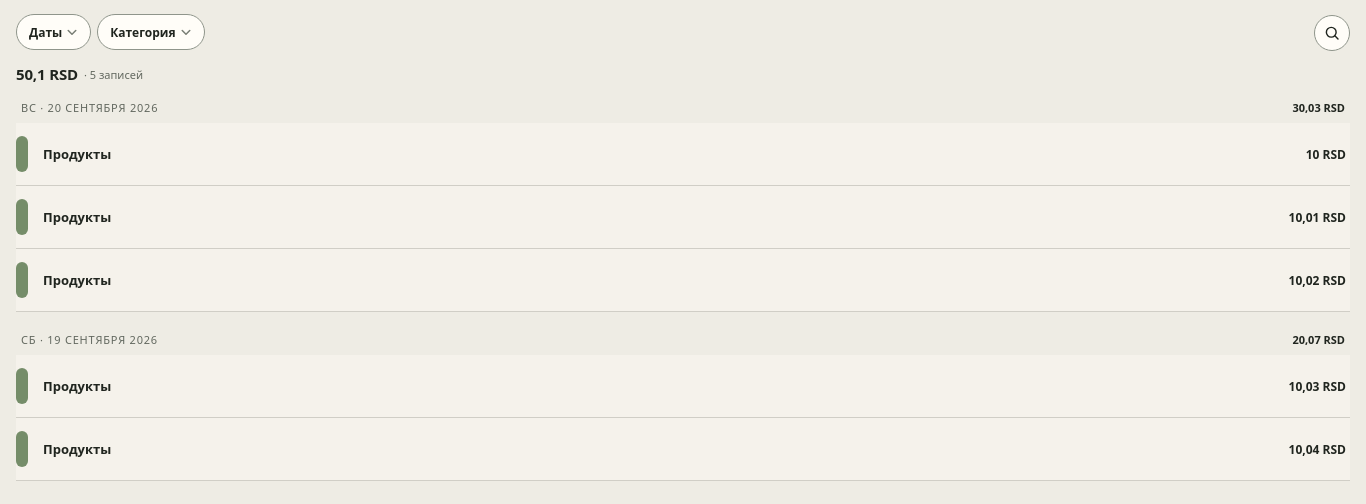
Test: history toolbar entering and leaving selection › still enters the selection by a long press, cancels it and deletes the selected records
Press the mouse on the element with class "history-expense" showing "Продукты 10 RSD" at (683, 154), box [16, 123, 1350, 186]
Wait 450 ms
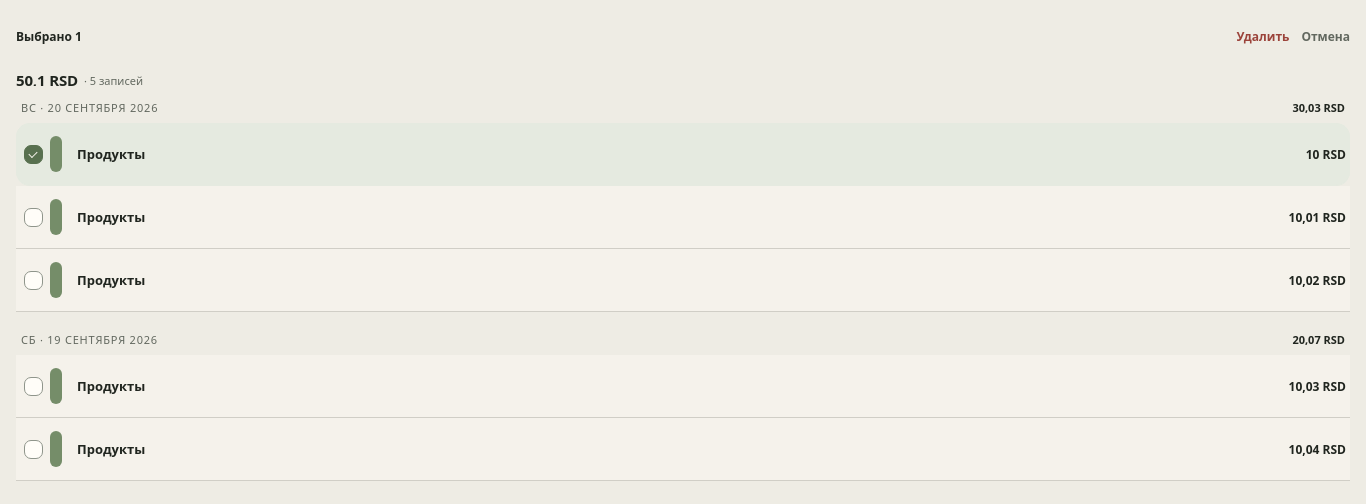
expect the element named "Выбранные расходы" shows "Выбрано 1": met, box [16, 14, 1350, 58]
Click the button "Отмена" at (1326, 36), box [1301, 20, 1350, 52]
Wait 250 ms
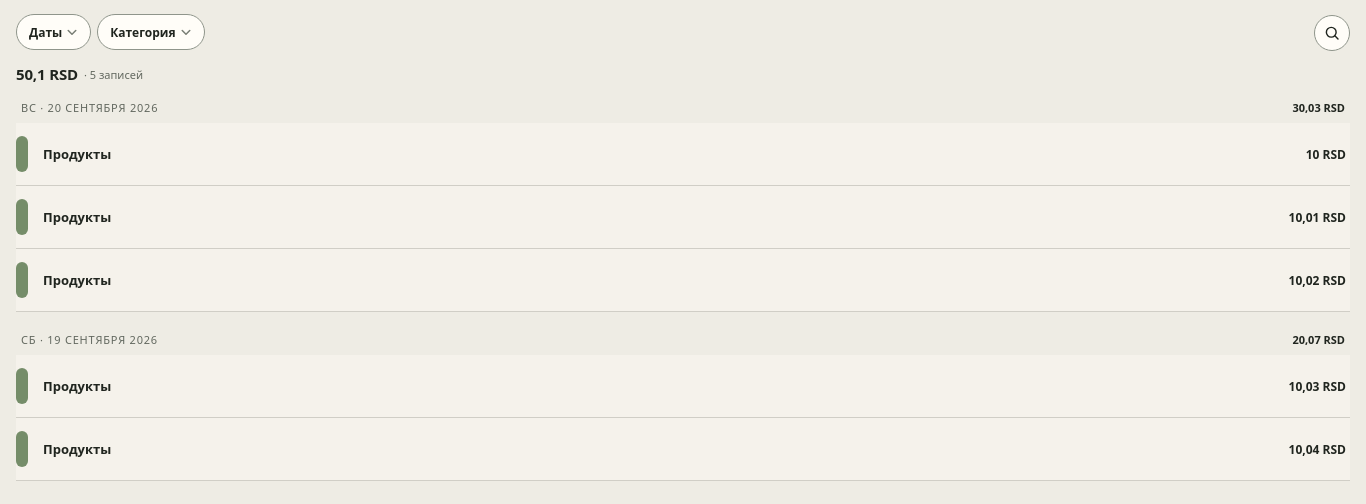
expect the element with class "history-selectbar" is gone: met
Press the mouse on the element with class "history-expense" showing "Продукты 10 RSD" at (683, 154), box [16, 123, 1350, 186]
Wait 700 ms
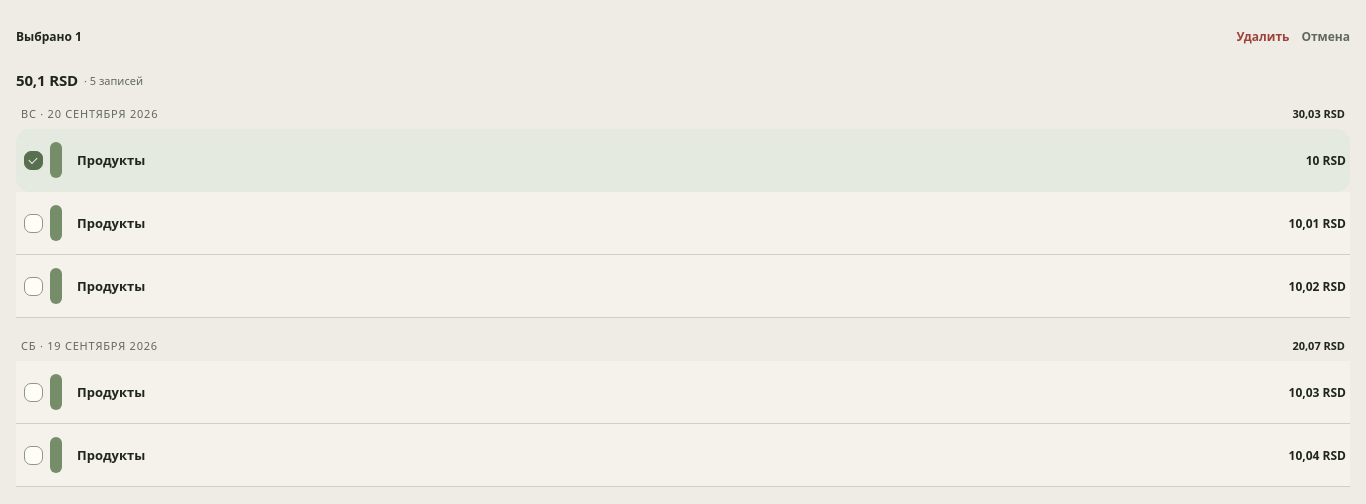
Click the button with aria-label "Удалить выбранные расходы: 1" at (1263, 36), box [1236, 14, 1289, 58]
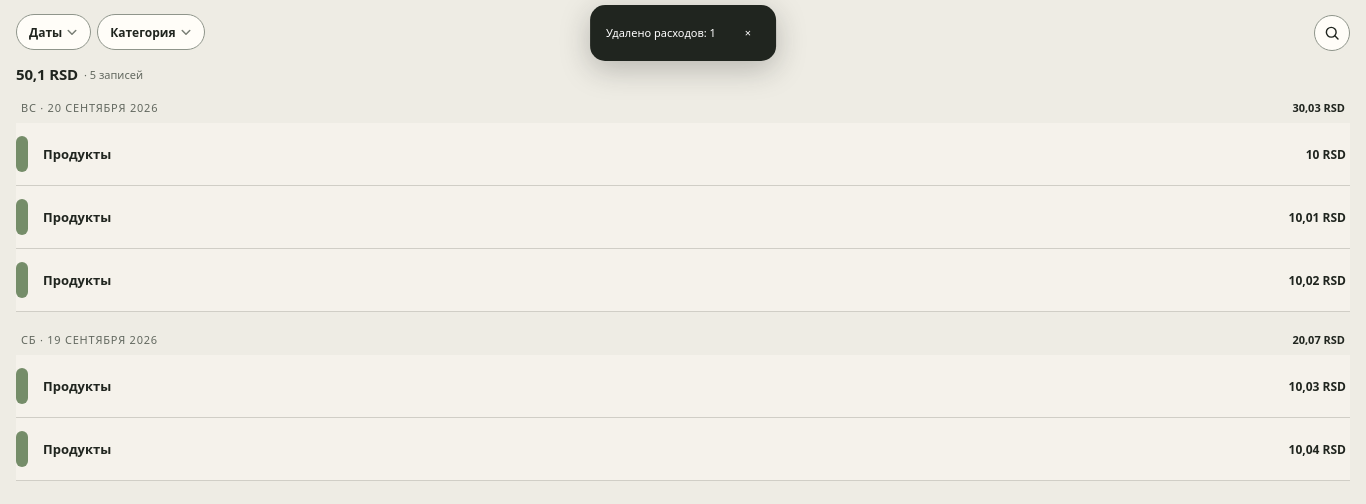
expect the element with class "history-selectbar" is gone: met
expect the text "Удалено расходов: 1" is shown: met, box [606, 26, 716, 40]
